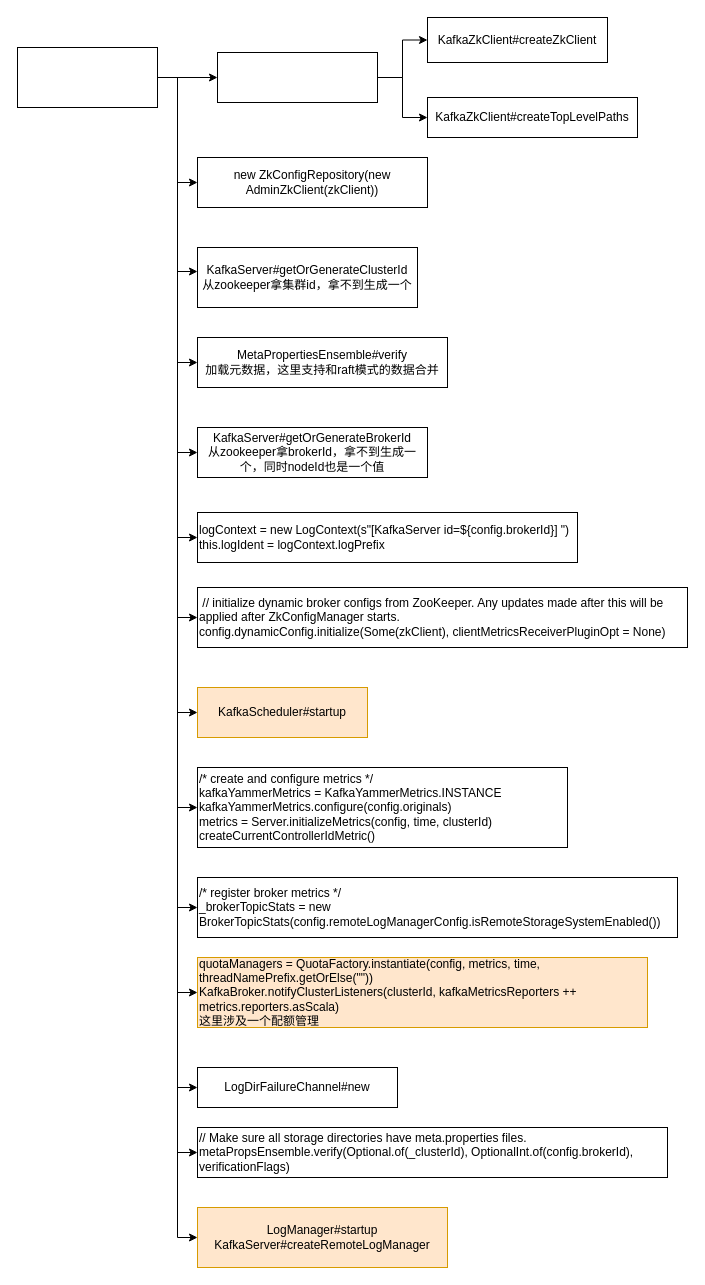
Image size: 705x1285. Some labels were removed from this diagram. Here are the shapes that lost their labels. From the top down, the centre of each, then its label:
(87,77): KafkaServer#startup
(297,77): KafkaServer#initZkClient
